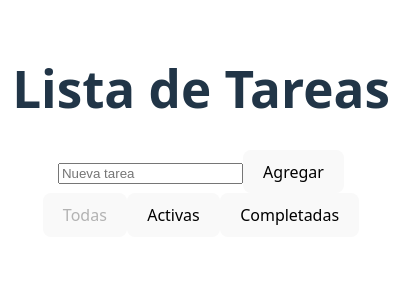
Test: TodoList Component › filtra tareas por estado (Activas/Completadas)
The image size is (405, 294).
# Agregar tarea activa
Type "Tarea Activa" into the field with placeholder "Nueva tarea" at {"x": 150, "y": 173}, box left=58, top=163, right=243, bottom=184
Click the button "Agregar" at {"x": 294, "y": 172}, box left=243, top=150, right=344, bottom=194
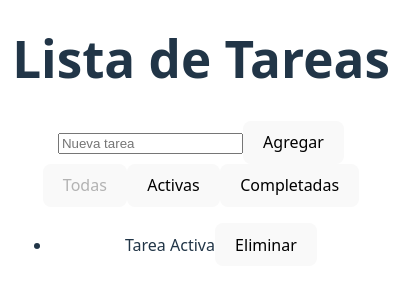
# Agregar tarea completada
Type "Tarea Completada" into the field with placeholder "Nueva tarea" at {"x": 150, "y": 144}, box left=58, top=133, right=243, bottom=154
Click the button "Agregar" at {"x": 294, "y": 142}, box left=243, top=121, right=344, bottom=164
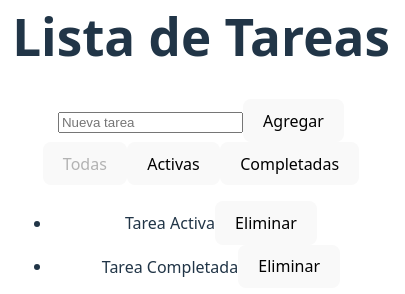
Click the text "Tarea Completada" at {"x": 170, "y": 266}, box left=102, top=255, right=238, bottom=277
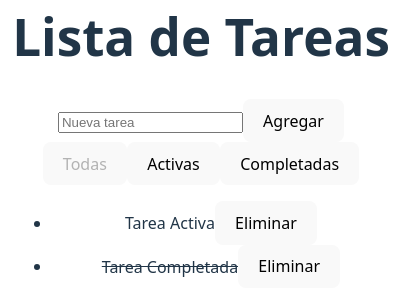
# Filtro Activas
Click the button "Activas" at {"x": 174, "y": 164}, box left=127, top=142, right=220, bottom=186
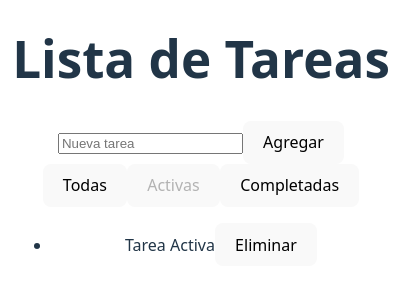
Result: the text "Tarea Activa" is shown at left=125, top=234, right=215, bottom=256
Result: the text "Tarea Completada" is gone
# Filtro Completadas
Click the button "Completadas" at {"x": 290, "y": 186}, box left=220, top=164, right=359, bottom=207
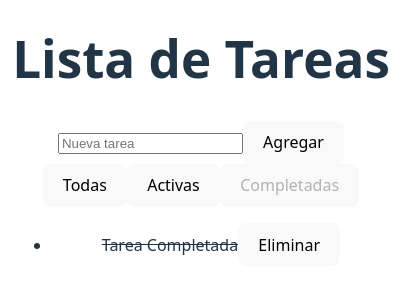
Result: the text "Tarea Activa" is gone
Result: the text "Tarea Completada" is shown at left=102, top=234, right=238, bottom=256
# Filtro Todas
Click the button "Todas" at {"x": 85, "y": 186}, box left=43, top=164, right=127, bottom=207
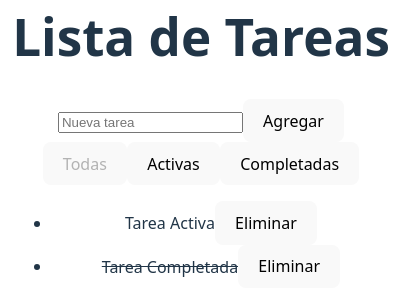
Result: the text "Tarea Completada" is shown at left=102, top=255, right=238, bottom=277
Result: the text "Tarea Activa" is shown at left=125, top=212, right=215, bottom=234
